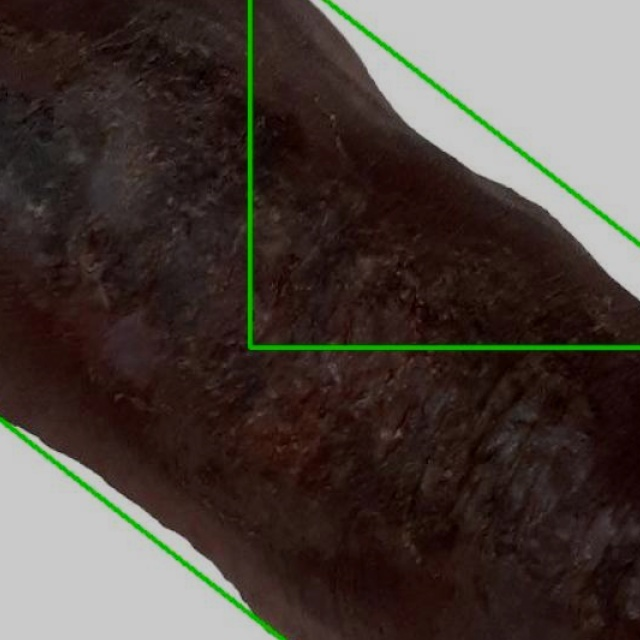Contact Dermatitis: (0, 0, 639, 639), (249, 0, 639, 347)
